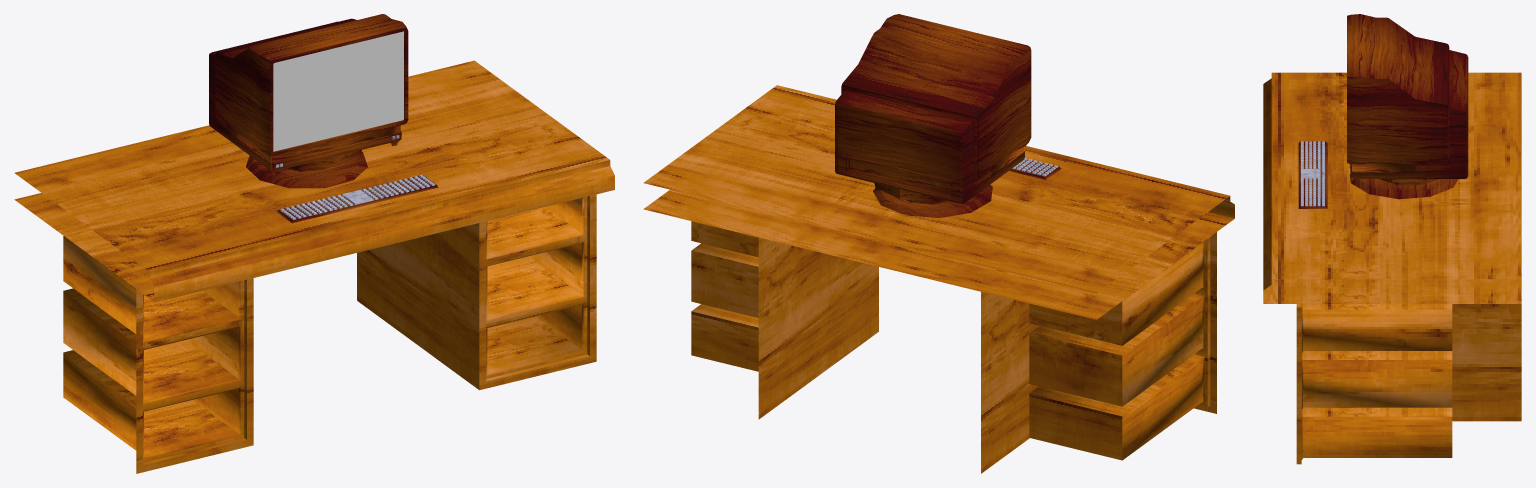
Rendered from table.glb.
3 views of the same model, side by side, from view 1: azimuth 30°, elevation 25°; view 2: azimuth 150°, elevation 25°; view 3: azimuth 270°, elevation 25° (orthographic). The views are drawn at different scales.
Visible parts, largest first — view 1: table, table.001, table.003, table.002; view 2: table, table.001, table.003, table.002; view 3: table, table.001, table.003, table.002.
Part boxes in pixels (x1,y1,x2,y2): table: [14, 60, 614, 473]; table.001: [209, 14, 438, 223]; table.003: [246, 151, 367, 188]; table.002: [284, 150, 361, 171]; table: [643, 85, 1234, 473]; table.001: [835, 14, 1061, 203]; table.003: [873, 184, 992, 217]; table.002: [874, 183, 949, 204]; table: [1263, 72, 1521, 464]; table.001: [1298, 14, 1468, 208]; table.003: [1349, 174, 1458, 199]; table.002: [1380, 179, 1437, 185].
Bounding box in the file's own units: 3.12 × 2.3 × 1.65.
Materials: 4 (3 with a texture image).
